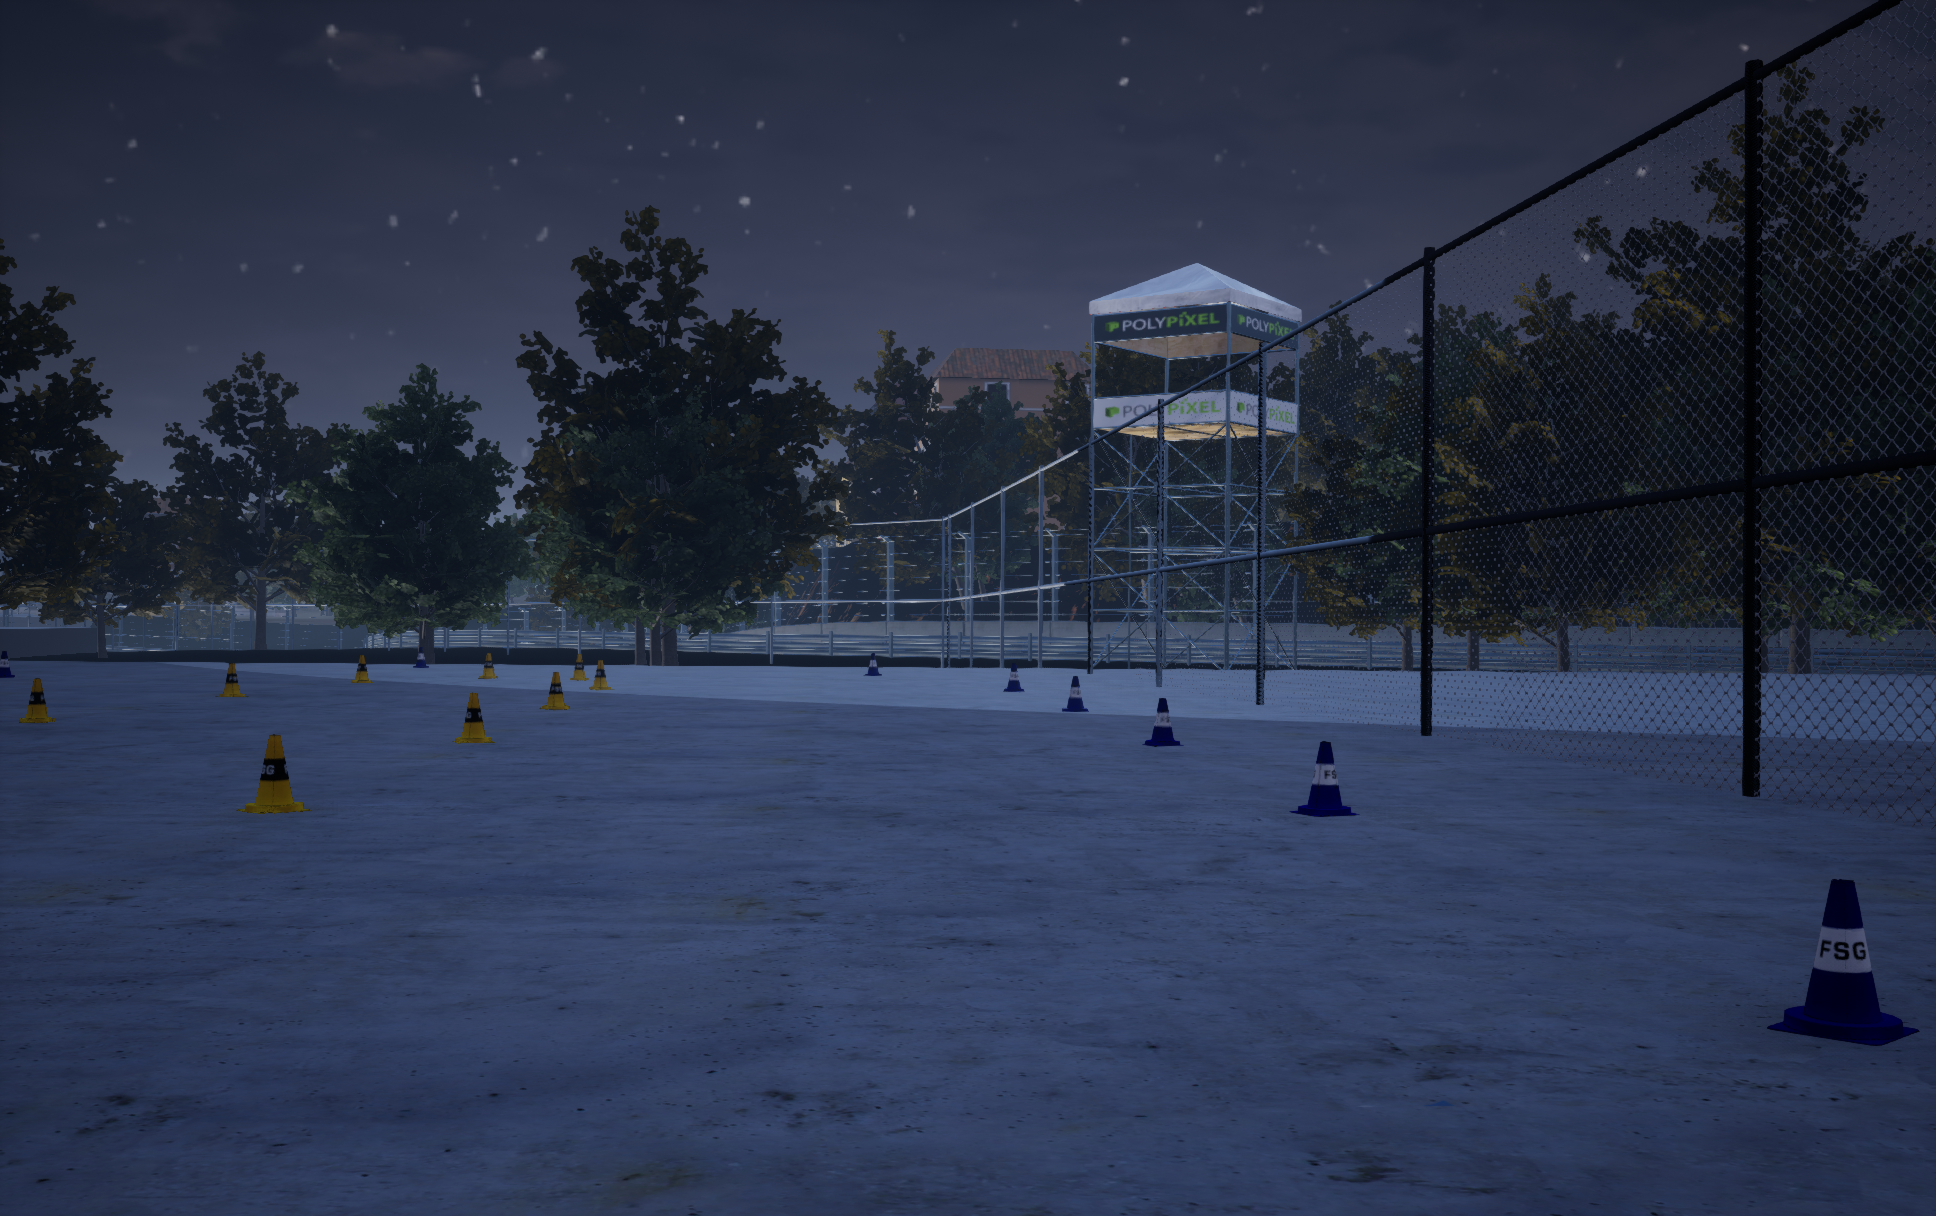blue: (235, 734, 311, 813), (452, 692, 495, 742), (20, 678, 55, 721), (214, 663, 248, 696), (539, 672, 569, 709), (588, 660, 614, 689), (352, 656, 373, 682), (478, 653, 497, 678), (570, 654, 588, 679)
yellow: (1766, 878, 1919, 1045), (1289, 741, 1359, 815), (1142, 698, 1182, 747), (1062, 677, 1088, 712), (1003, 663, 1024, 691), (863, 653, 881, 675), (0, 651, 14, 677), (413, 647, 429, 667)
